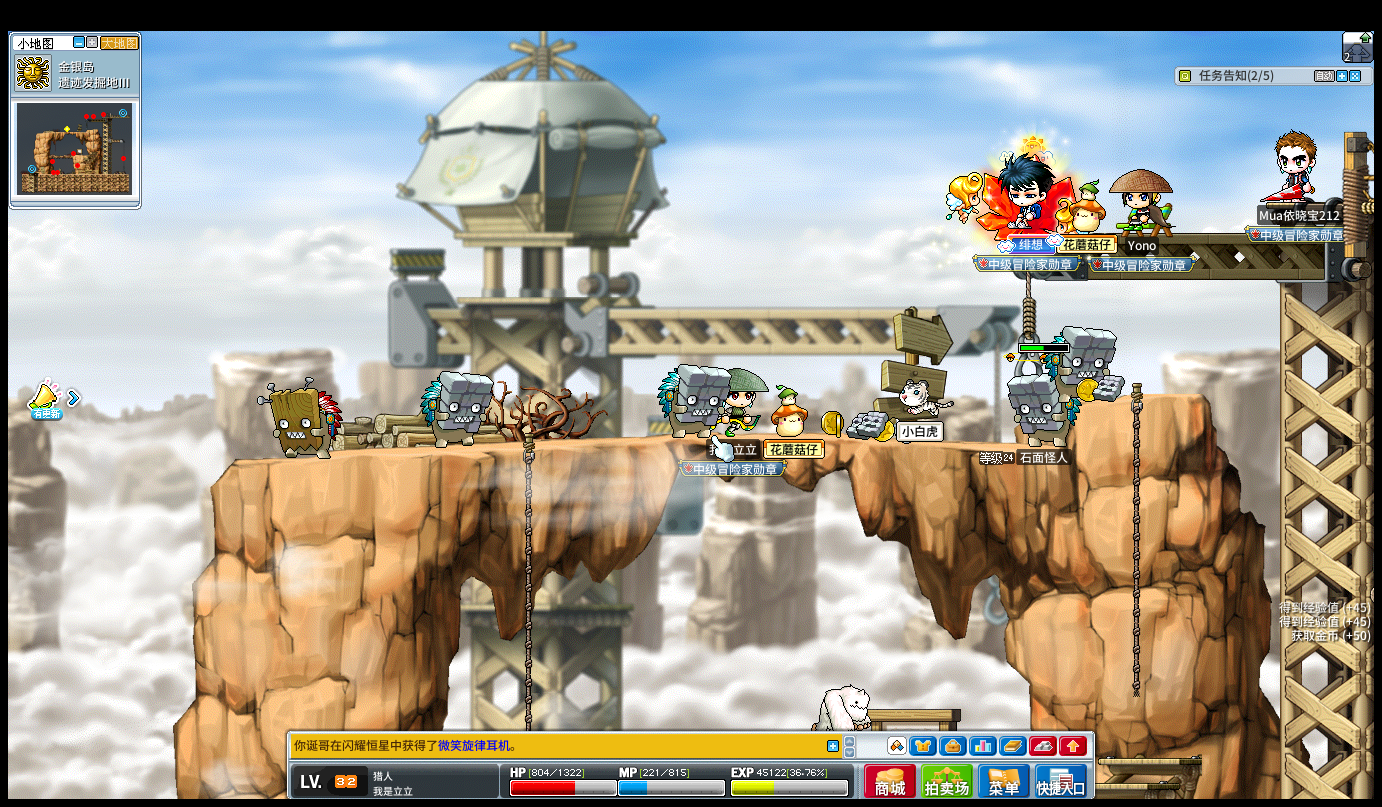floor: (241, 426, 1096, 456), (1068, 390, 1204, 406), (1102, 756, 1202, 767)
monster: (260, 380, 341, 461), (420, 371, 491, 449), (657, 362, 728, 438), (1055, 324, 1119, 402), (1006, 373, 1062, 445)
rope: (1127, 380, 1143, 704), (522, 431, 533, 671), (1023, 271, 1034, 341)
